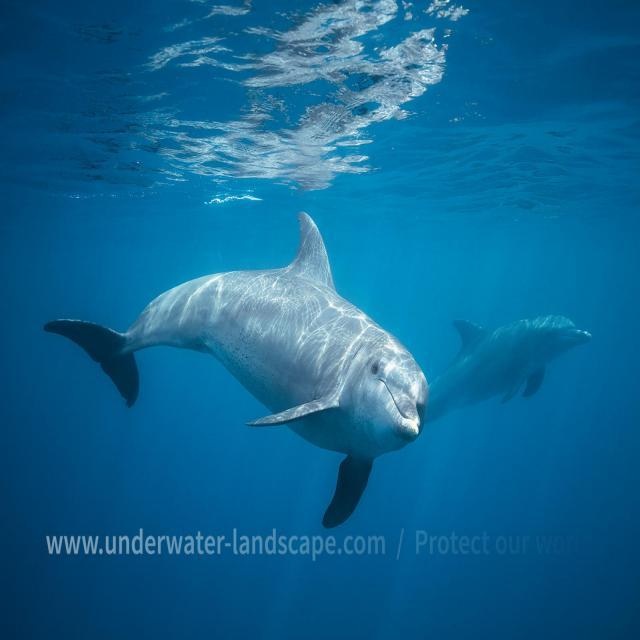dolphin: (28, 208, 440, 498)
